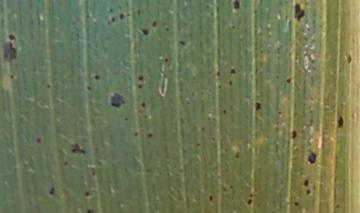tarspot: (1, 40, 18, 64), (109, 91, 126, 109), (292, 2, 306, 23), (69, 142, 86, 156), (136, 26, 149, 38), (306, 151, 317, 164), (336, 114, 344, 129), (344, 53, 353, 65), (231, 1, 241, 11), (254, 101, 262, 113), (176, 38, 186, 47), (6, 33, 17, 41), (228, 67, 237, 76), (290, 130, 298, 140), (136, 72, 144, 82), (89, 167, 97, 177), (118, 11, 125, 22), (150, 19, 158, 28), (233, 150, 241, 159), (35, 136, 42, 146), (109, 15, 116, 25), (136, 8, 143, 18), (303, 177, 309, 188), (136, 82, 144, 90), (209, 135, 217, 143), (143, 167, 153, 173), (139, 101, 146, 109), (93, 74, 101, 81), (85, 84, 92, 92), (215, 70, 222, 78), (162, 56, 169, 64), (62, 160, 70, 167), (207, 194, 214, 202), (246, 198, 253, 206), (107, 7, 114, 15), (333, 203, 341, 210), (227, 78, 233, 87), (49, 186, 55, 195), (193, 141, 202, 147), (8, 73, 15, 80), (83, 190, 90, 197), (132, 130, 139, 137), (199, 125, 206, 132), (285, 77, 291, 85), (145, 132, 153, 138), (45, 83, 51, 91), (275, 110, 283, 116), (229, 24, 237, 30), (221, 108, 227, 115), (122, 116, 129, 122), (305, 188, 311, 195), (84, 14, 91, 20), (217, 83, 223, 89), (164, 26, 170, 32), (293, 201, 299, 207), (85, 208, 91, 213)
